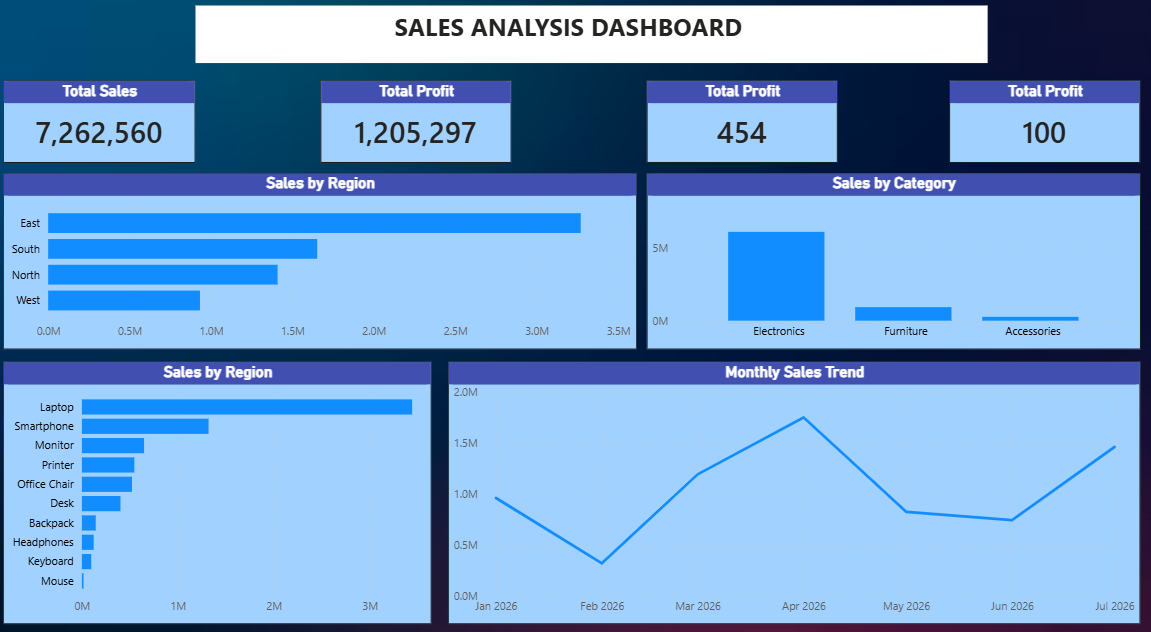

This screenshot's page, from the dashboard's own definition file:
{"tool":"powerbi","page":{"name":"Page 1","canvas":[1280,720],"ordinal":0},"visuals":[{"type":"cardVisual","title":"Total Sales","fields":{"Data":["Sum(Sales Data.Sales)"]},"box":[16.5,101.5,211.3,90.6],"z":0},{"type":"cardVisual","title":"Total Profit","fields":{"Data":["Sum(Sales Data.Profit)"]},"box":[365,101.5,209.9,90.6],"z":1000},{"type":"cardVisual","title":"Total Profit","fields":{"Data":["CountNonNull(Sales Data.Order ID)"]},"box":[1055.2,101.5,209.9,90.6],"z":2000},{"type":"cardVisual","title":"Total Profit","fields":{"Data":["Sum(Sales Data.Quantity)"]},"box":[723.2,101.5,209.9,90.6],"z":3000},{"type":"clusteredBarChart","title":" Sales by Region","fields":{"Y":["Sum(Sales Data.Sales)"],"Category":["Sales Data.Region"]},"box":[16.5,203.1,695.7,193.5],"z":4000},{"type":"clusteredBarChart","title":" Sales by Region","fields":{"Y":["Sum(Sales Data.Sales)"],"Category":["Sales Data.Product"]},"box":[16.5,410.3,470.7,288.2],"z":5000},{"type":"lineChart","title":"Monthly Sales Trend","fields":{"Y":["Sum(Sales Data.Sales)"],"Category":["Sales Data.Order Date.Variation.Date Hierarchy.Year","Sales Data.Order Date.Variation.Date Hierarchy.Month"]},"box":[505,410.3,760.2,288.2],"z":6000},{"type":"clusteredColumnChart","title":" Sales by Category","fields":{"Y":["Sum(Sales Data.Sales)"],"Category":["Sales Data.Category"]},"box":[723.2,203.1,542,193.5],"z":7000},{"type":"textbox","box":[227.8,19.2,870,63.1],"z":8000}]}

Visuals, with their boxes in screenshot pixels (x1, y1, x2, y2), scaled from the page's 1280x720 canvas onto the 1151x632 screenshot:
"Total Sales" cardVisual: 15:89:205:169
"Total Profit" cardVisual: 328:89:517:169
"Total Profit" cardVisual: 949:89:1138:169
"Total Profit" cardVisual: 650:89:839:169
" Sales by Region" clusteredBarChart: 15:178:640:348
" Sales by Region" clusteredBarChart: 15:360:438:613
"Monthly Sales Trend" lineChart: 454:360:1138:613
" Sales by Category" clusteredColumnChart: 650:178:1138:348
textbox: 205:17:987:72
